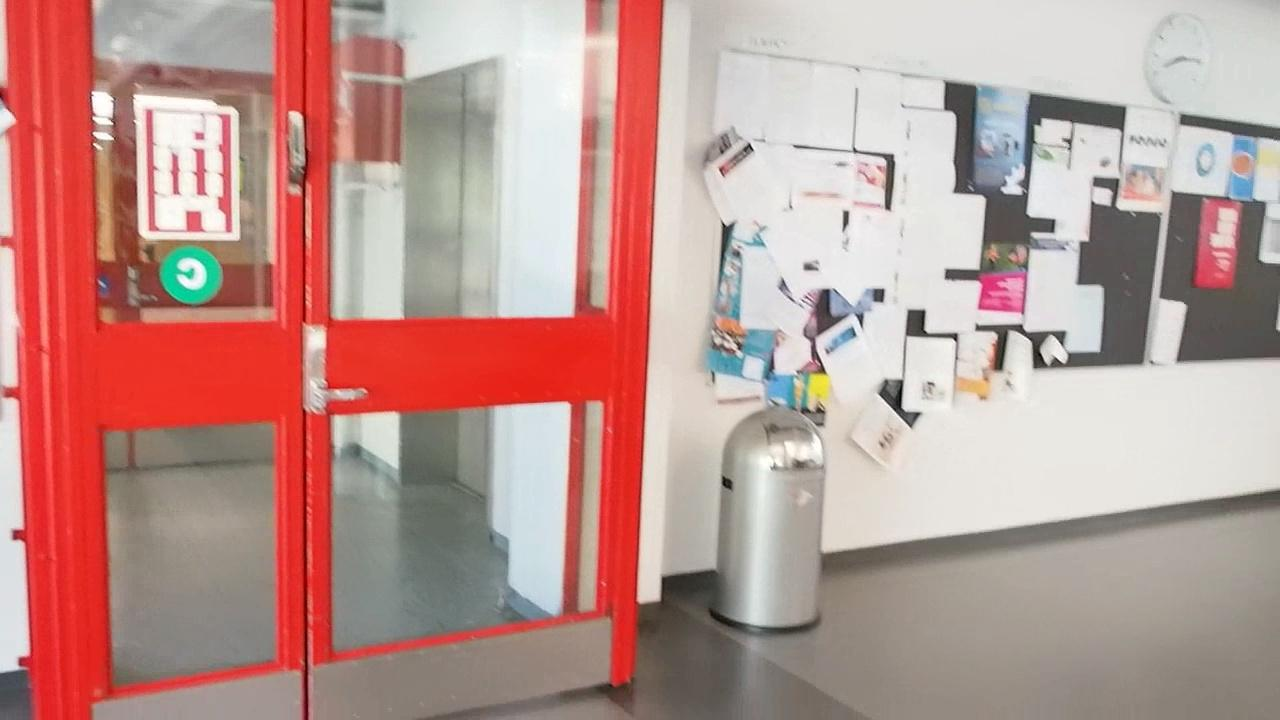trashbin: (714, 401, 827, 631)
